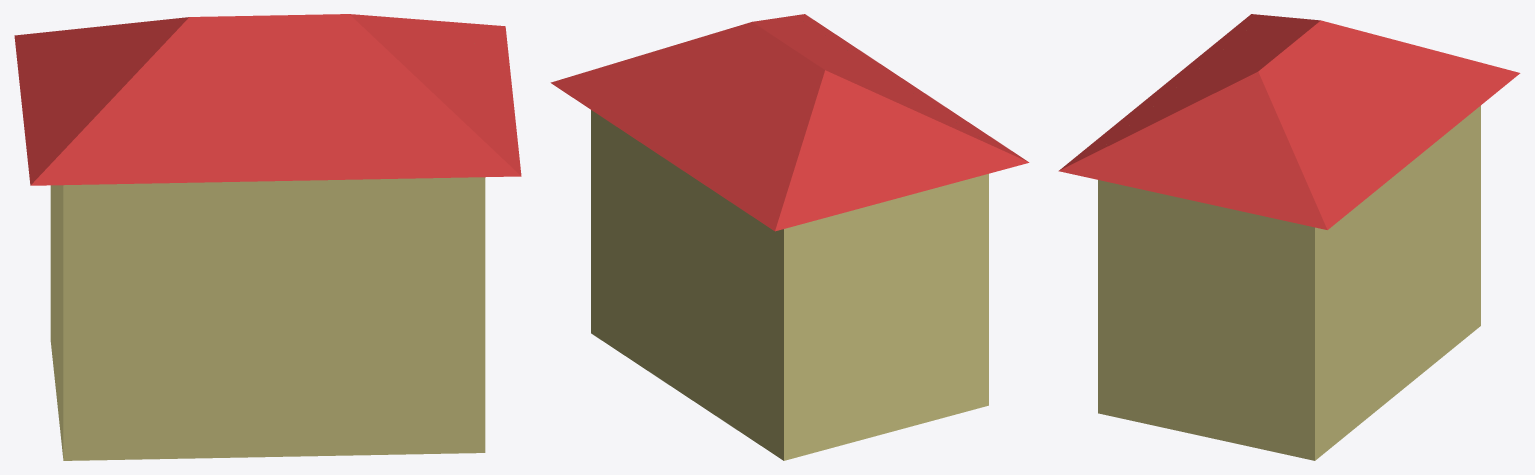
3 renders of one model, left to right at view 1: azimuth 30°, elevation 25°; view 2: azimuth 150°, elevation 25°; view 3: azimuth 270°, elevation 25°, orthographic. The views are drawn at different scales.
Visible parts, largest first — view 1: group_5, group_3, group_4; view 2: group_5, group_3, group_4; view 3: group_5, group_3, group_4.
Boxes of the visible parts, <box> form: group_5: <box>50,177,485,460</box>; group_3: <box>14,14,521,185</box>; group_4: <box>15,23,521,185</box>; group_5: <box>591,110,988,460</box>; group_3: <box>591,14,1029,231</box>; group_4: <box>550,14,1027,230</box>; group_5: <box>1098,105,1480,460</box>; group_3: <box>1058,14,1519,229</box>; group_4: <box>1059,14,1520,229</box>.
Size of the model in its own units: 17.35 by 15.68 by 12.13.
